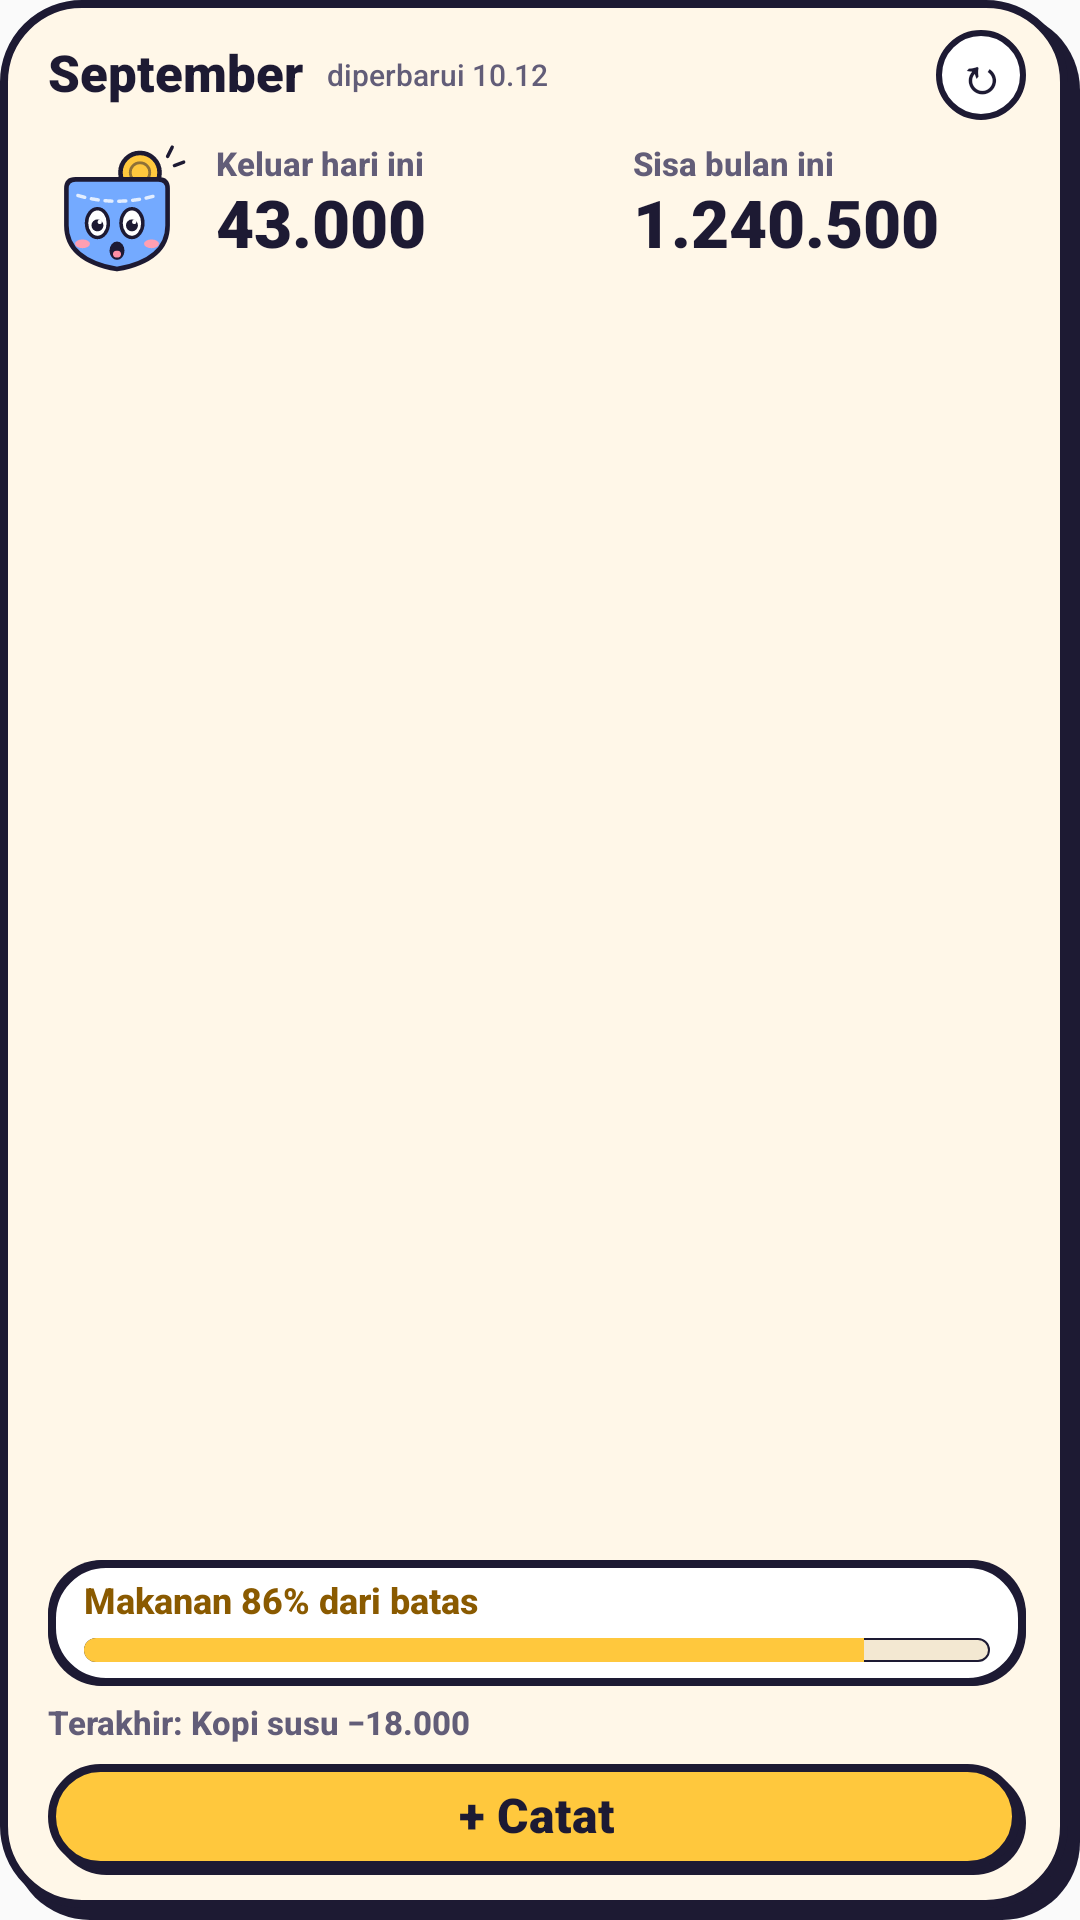

Icon click points for this 1080px x 1920px phone screenshot, format [x,y]:
Saku: [125,208]
